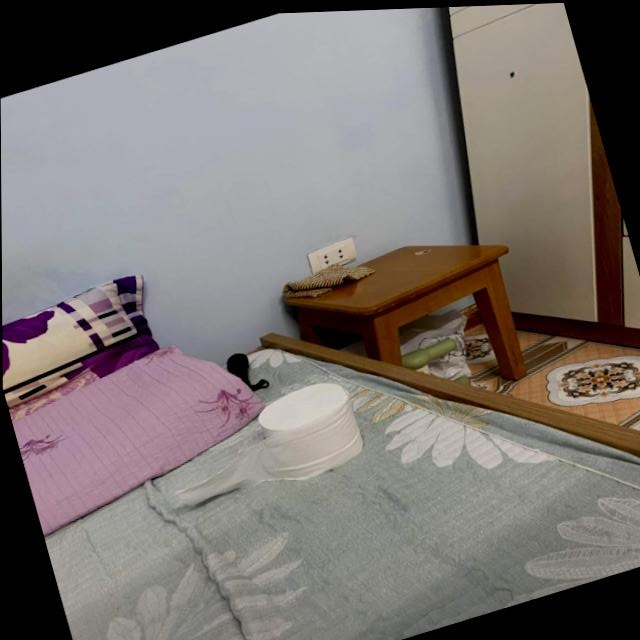outlet: (307, 236, 361, 276)
